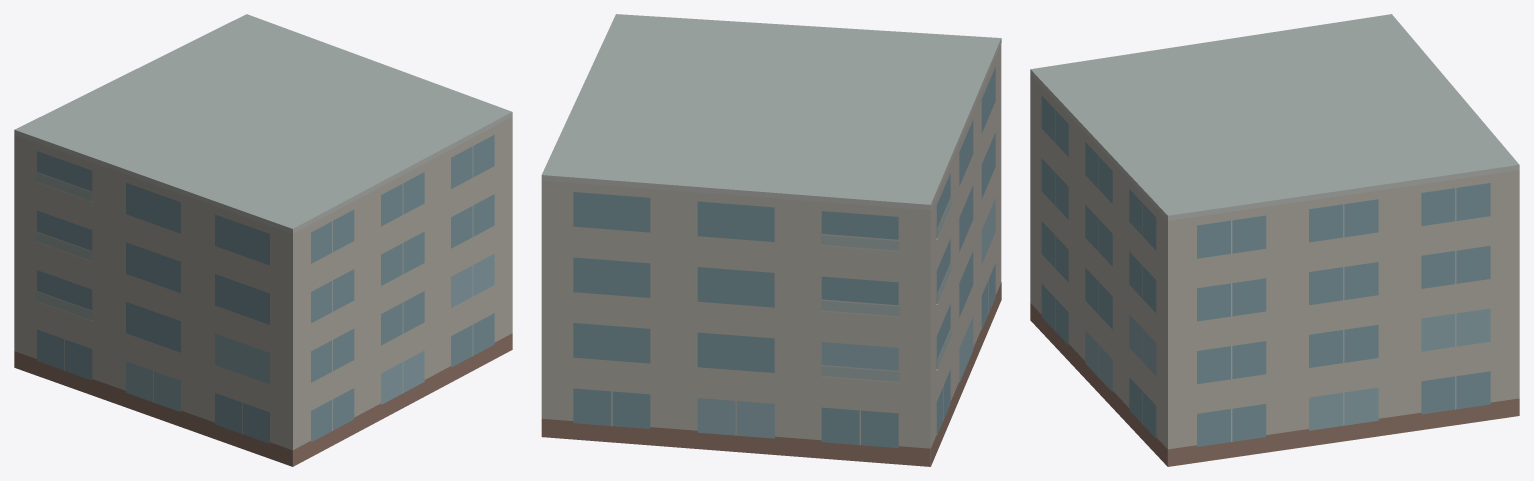
The model's file is survey-upis-32725215.glb.
3 renders of one model, left to right at view 1: azimuth 30°, elevation 25°; view 2: azimuth 150°, elevation 25°; view 3: azimuth 270°, elevation 25°, orthographic. The views are drawn at different scales.
Parts seen in each view (by area): view 1: survey-upis-32725215.tmp; view 2: survey-upis-32725215.tmp; view 3: survey-upis-32725215.tmp.
Part boxes in pixels (left/top/right/bottom): survey-upis-32725215.tmp: left=14, top=14, right=512, bottom=466; survey-upis-32725215.tmp: left=541, top=14, right=1001, bottom=466; survey-upis-32725215.tmp: left=1030, top=14, right=1519, bottom=466.
Size of the model in its own units: 20.7 by 12 by 21.2.
